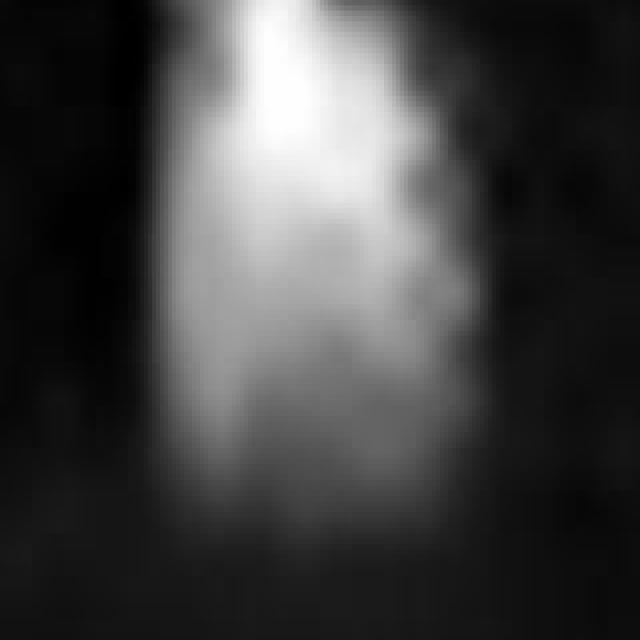person: (121, 1, 493, 550)
